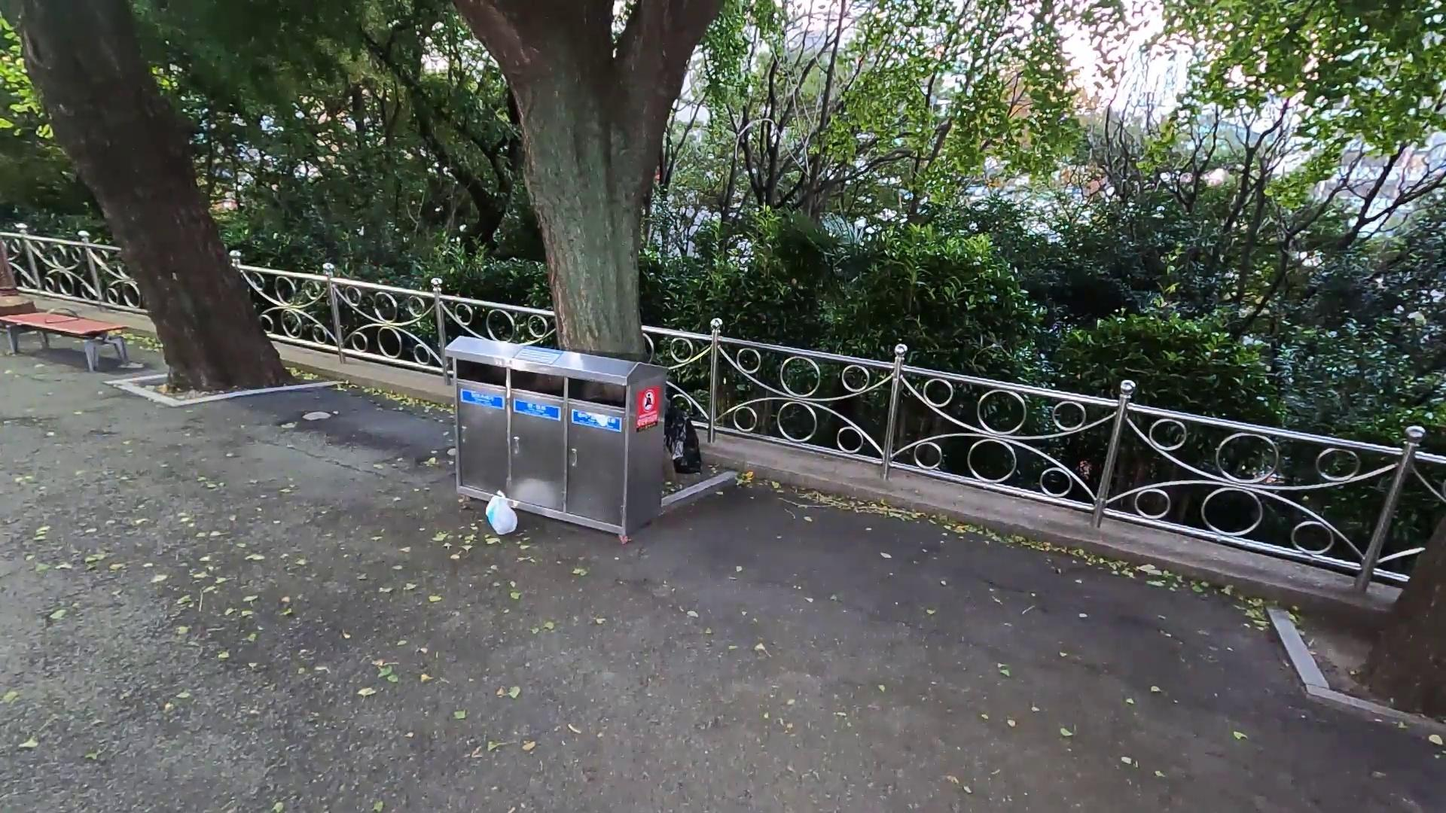trash: (666, 395, 715, 480), (475, 489, 524, 536)
